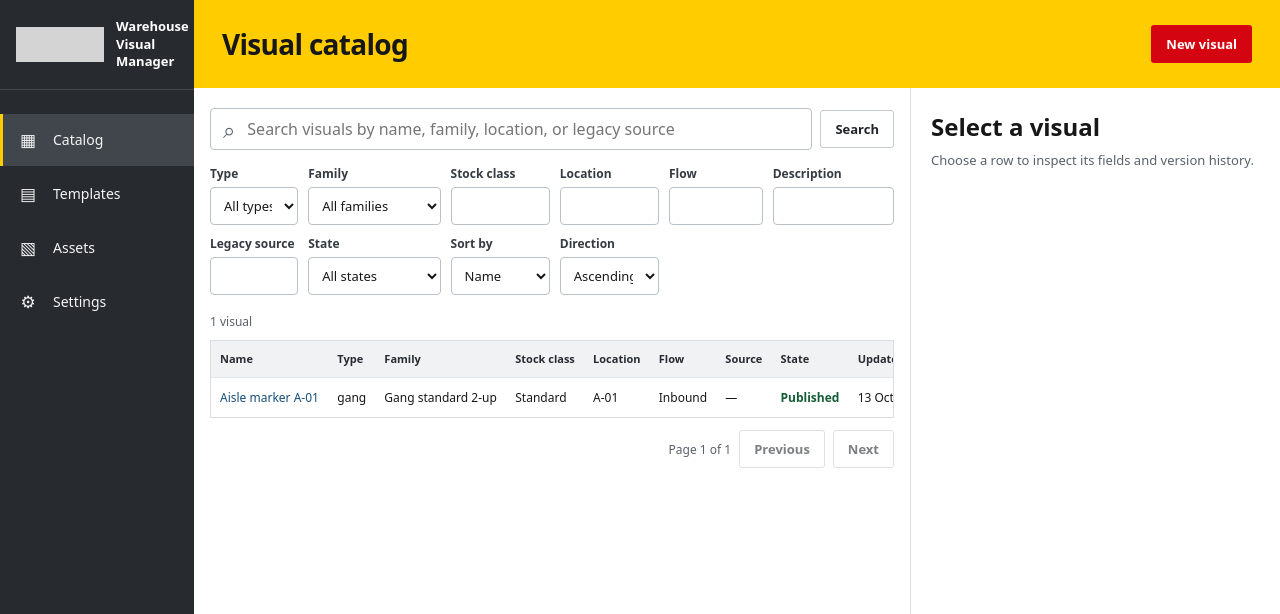
Test case: CatalogApp › creates and duplicates visuals through native commands
Expected: the row "Aisle marker A-01" is shown, [211,377,894,417]
Click the button "New visual" at (1202, 44), box [1151,25,1252,63]
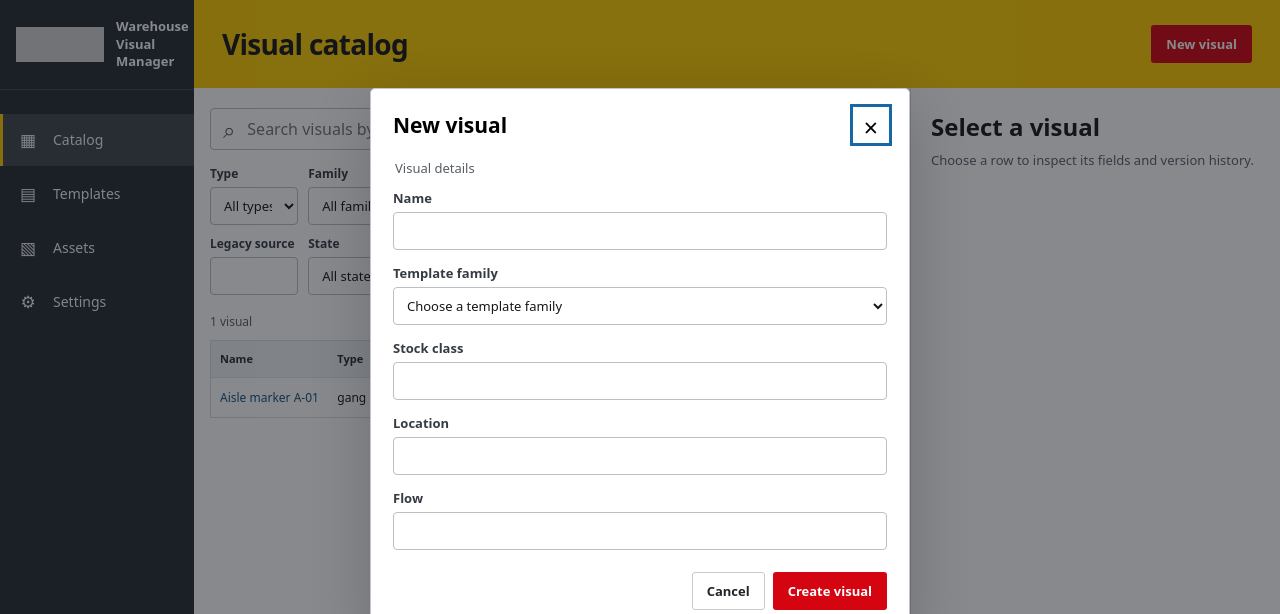
Type "Synthetic receiving marker" into the field labelled "Name" at (640, 230), box [393,212,887,250]
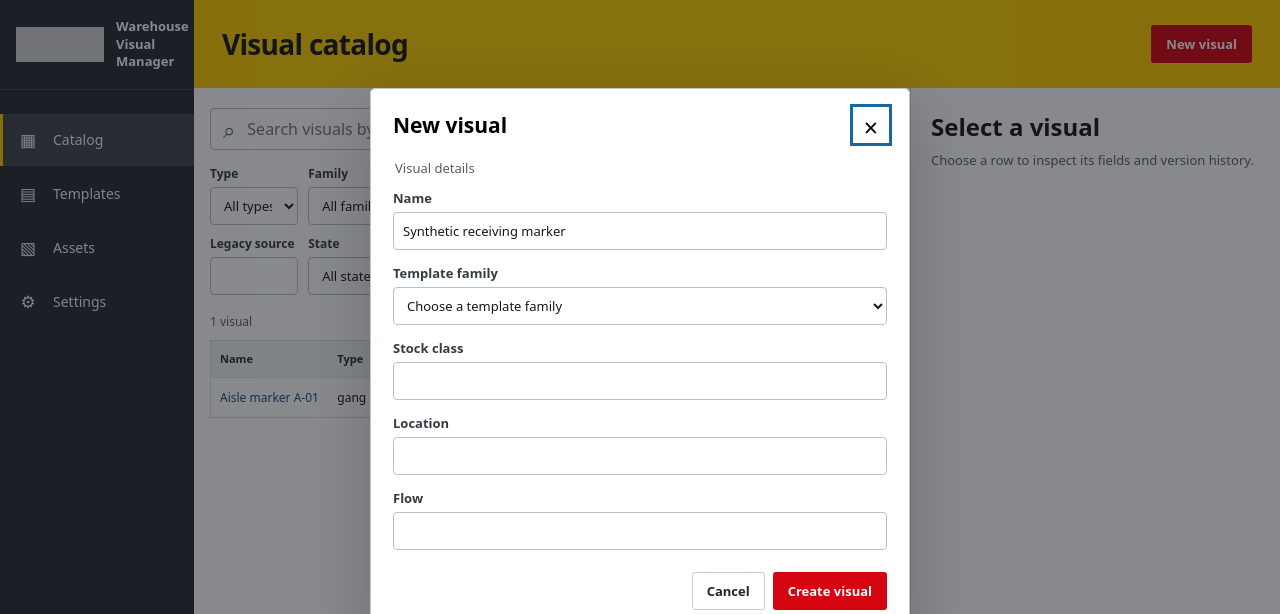
Select "Gang standard 2-up · Gang standard 2-up · sample" in the dropdown labelled "Template family" at (640, 306), box [393,286,887,324]
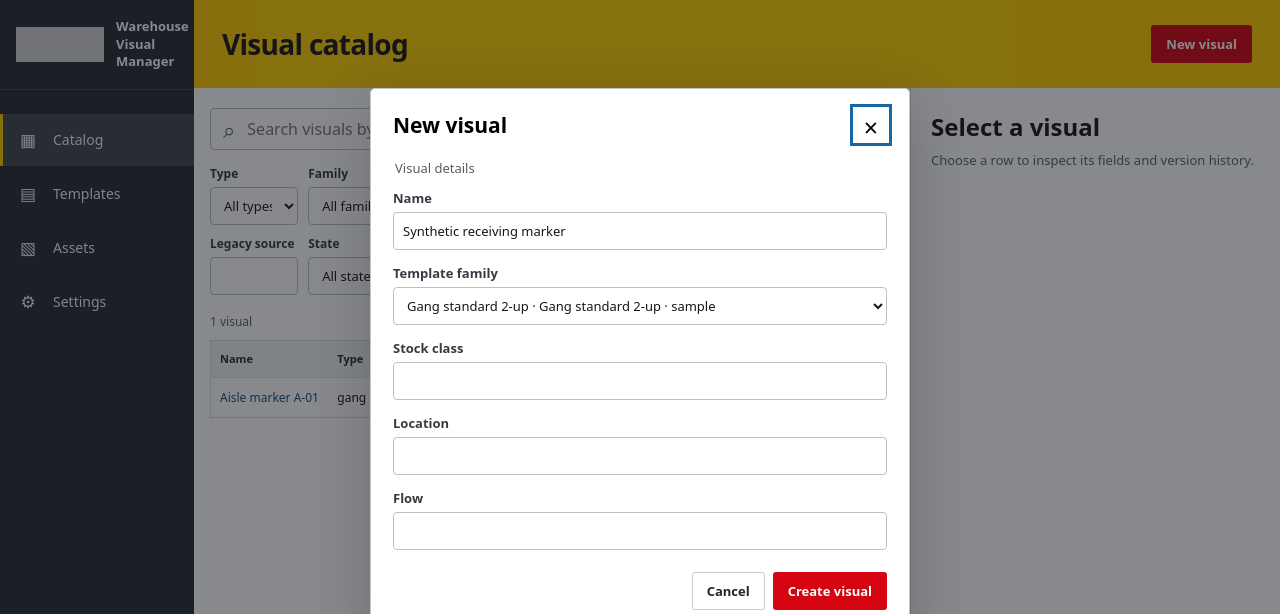
Type "DOCK-01" into the field labelled "Location" at (640, 456), box [393,436,887,474]
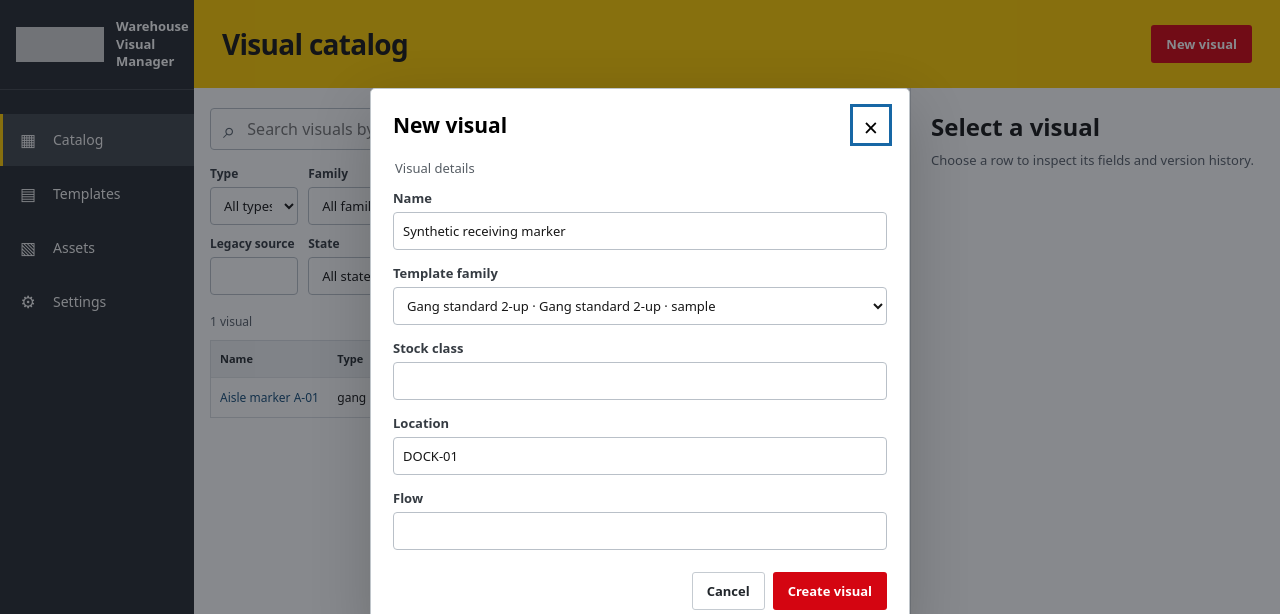
Click the button "Create visual" at (830, 590), box [773,572,887,610]
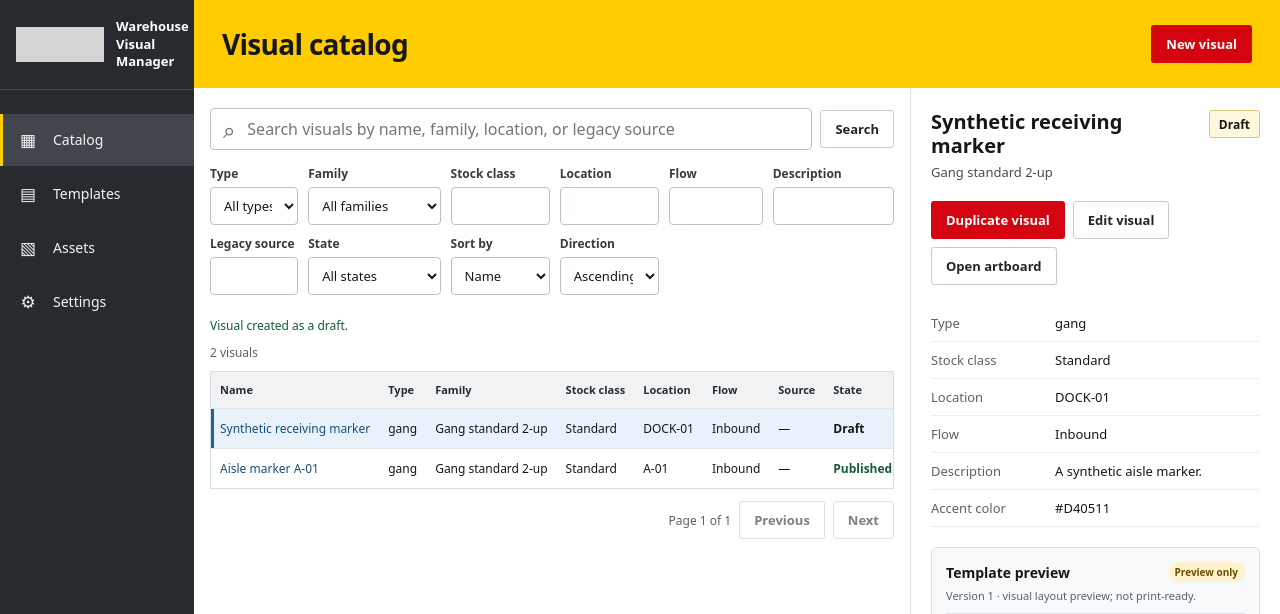
Expected: the heading "Synthetic receiving marker" is shown, [931,108,1122,159]
Click the button "Duplicate visual" at (998, 220), box [931,201,1065,239]
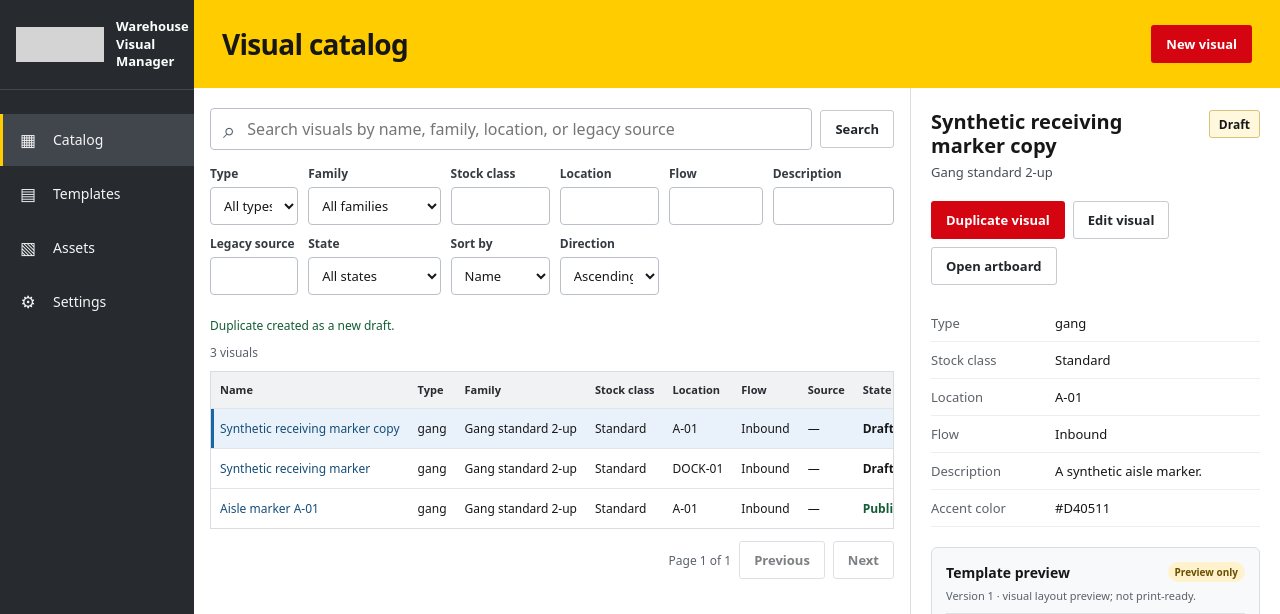
Expected: the heading "Synthetic receiving marker copy" is shown, [931,108,1122,159]
